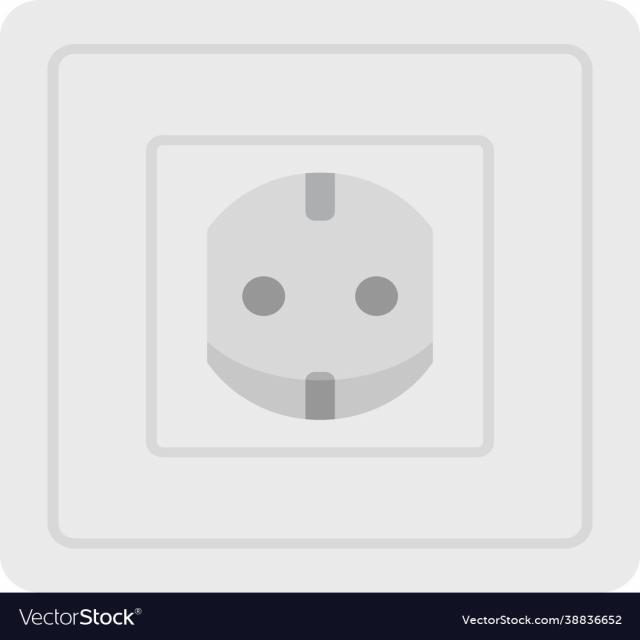typeb: (20, 43, 598, 556)
